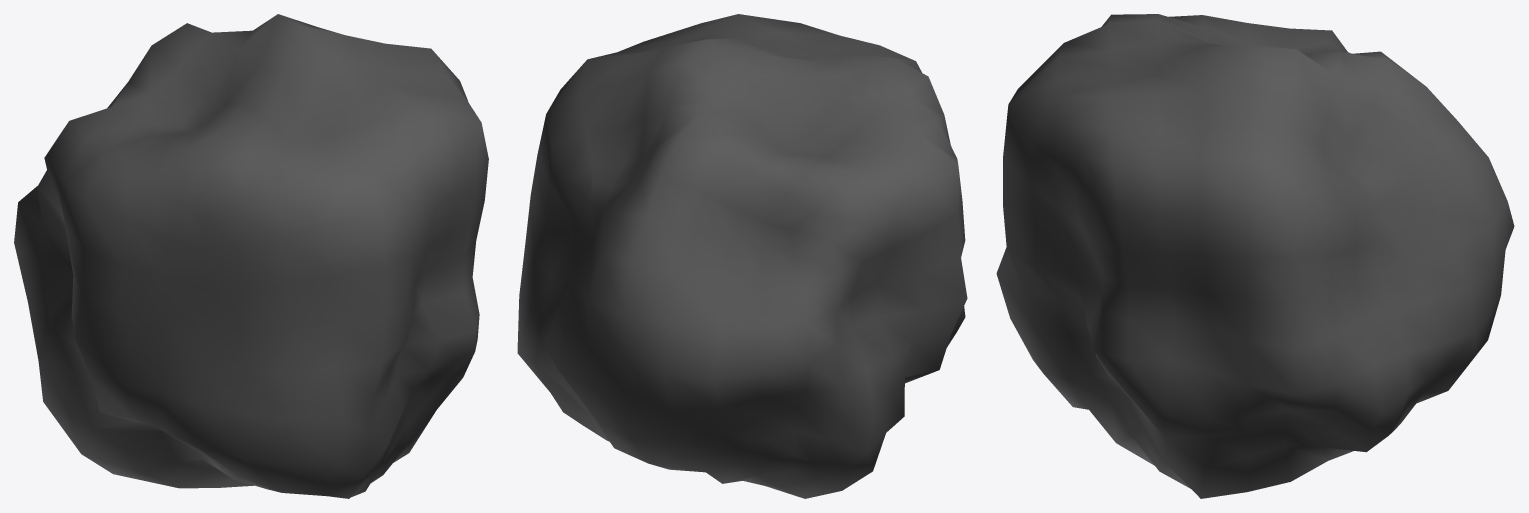
File: Asteroids.glb
3 views of the same model, side by side, from view 1: azimuth 30°, elevation 25°; view 2: azimuth 150°, elevation 25°; view 3: azimuth 270°, elevation 25° (orthographic). The views are drawn at different scales.
Visible parts, largest first — view 1: Asteroid; view 2: Asteroid; view 3: Asteroid.
Boxes of the visible parts, x1,y1,x2,y2 form: Asteroid: (14,14,488,498); Asteroid: (517,14,967,498); Asteroid: (996,14,1514,498).
Size of the model in its own units: 1.8 by 1.8 by 1.97.
1 material, 1 textured.
